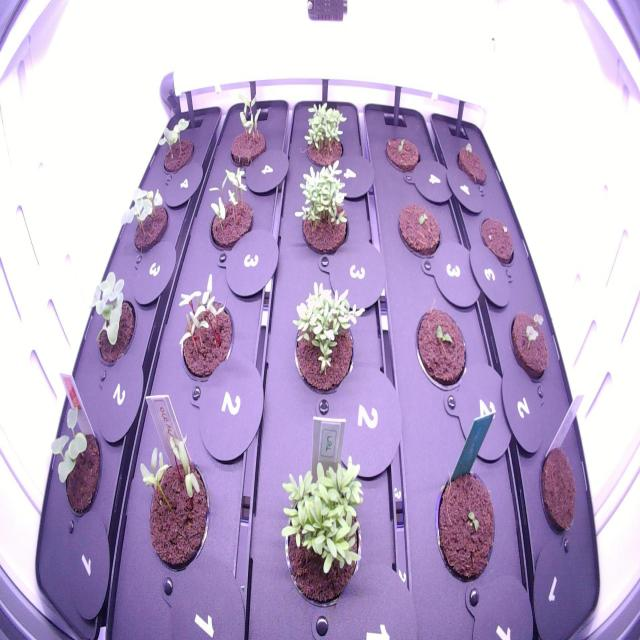germination: (266, 448, 374, 610), (135, 422, 217, 582), (286, 275, 368, 404), (432, 460, 502, 594), (170, 264, 240, 394), (44, 393, 104, 526), (196, 158, 264, 258), (292, 155, 357, 259), (409, 296, 472, 397), (88, 260, 138, 374), (218, 82, 274, 178), (118, 178, 173, 262), (504, 300, 553, 394), (298, 96, 351, 177), (389, 191, 445, 264), (151, 108, 198, 178), (476, 202, 519, 273), (450, 128, 493, 194), (378, 124, 426, 179)
pod: (532, 438, 583, 544)
